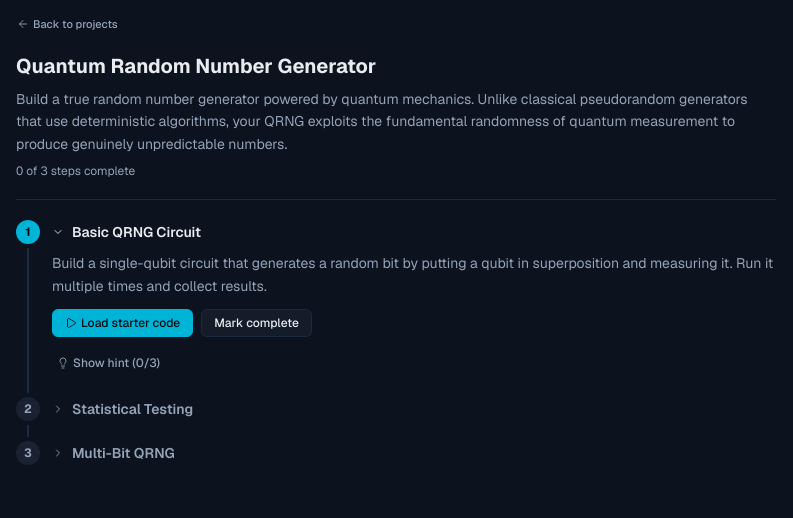
Test: CapstoneProjectView › in project mode opens a new tab with no confirm
Click the button "Load starter code" at point(123, 323), box [52, 309, 193, 337]
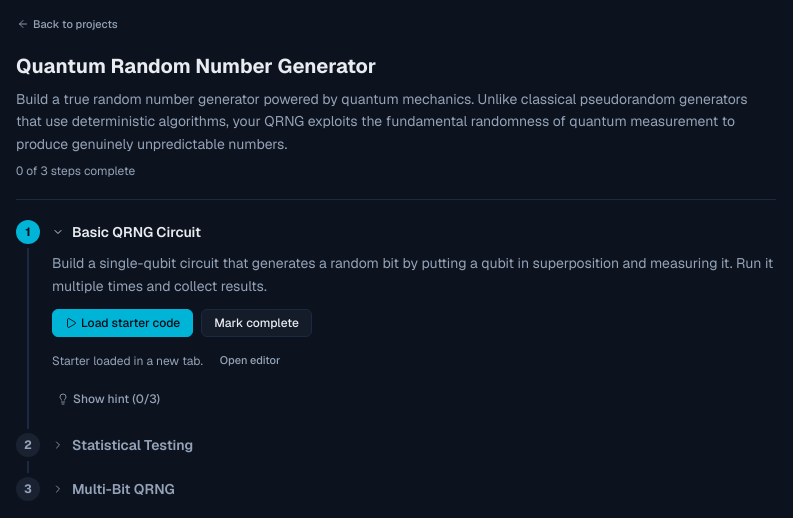
Now the text "Starter loaded in a new tab." is shown, box [52, 353, 203, 369]
